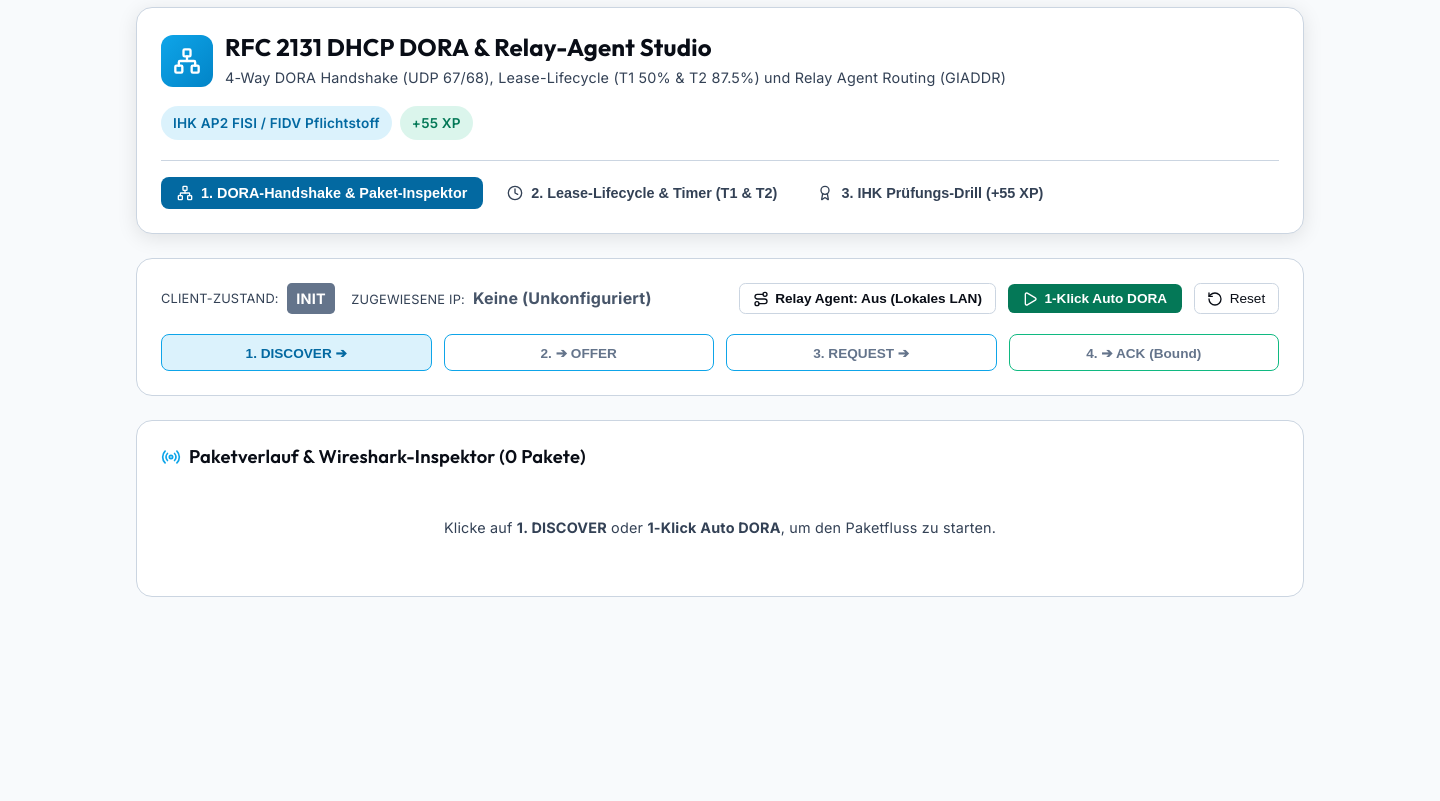
Test case: DhcpDoraLab: Lease-Lifecycle › durchläuft RENEWING und REBINDING und gibt die Adresse per Release frei
Click the button "1-Klick Auto DORA". click: (1095, 299)
box: [1008,284,1182,313]
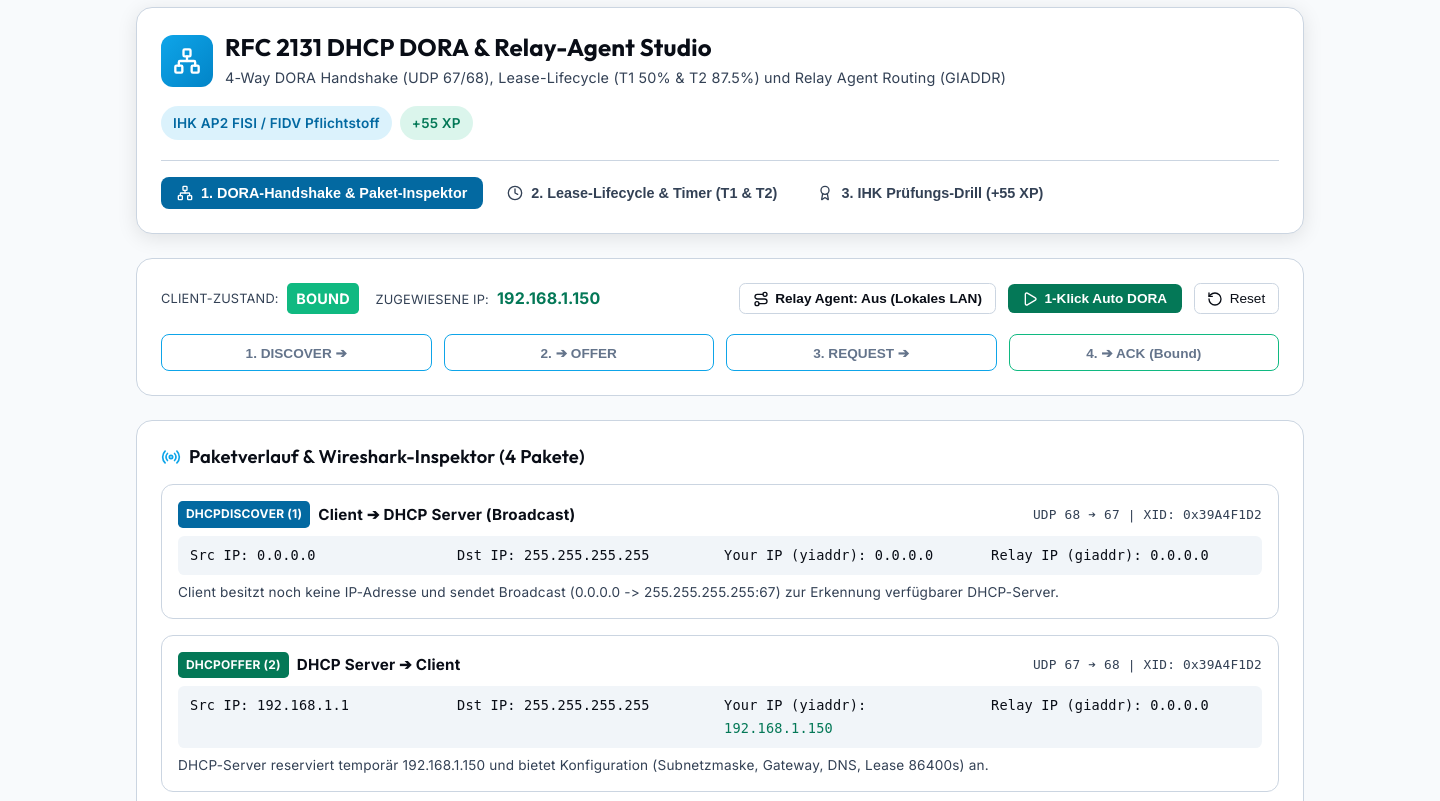
Click the button "2. Lease-Lifecycle & Timer (T1 & T2)". click: (642, 193)
box: [491,177,793,209]
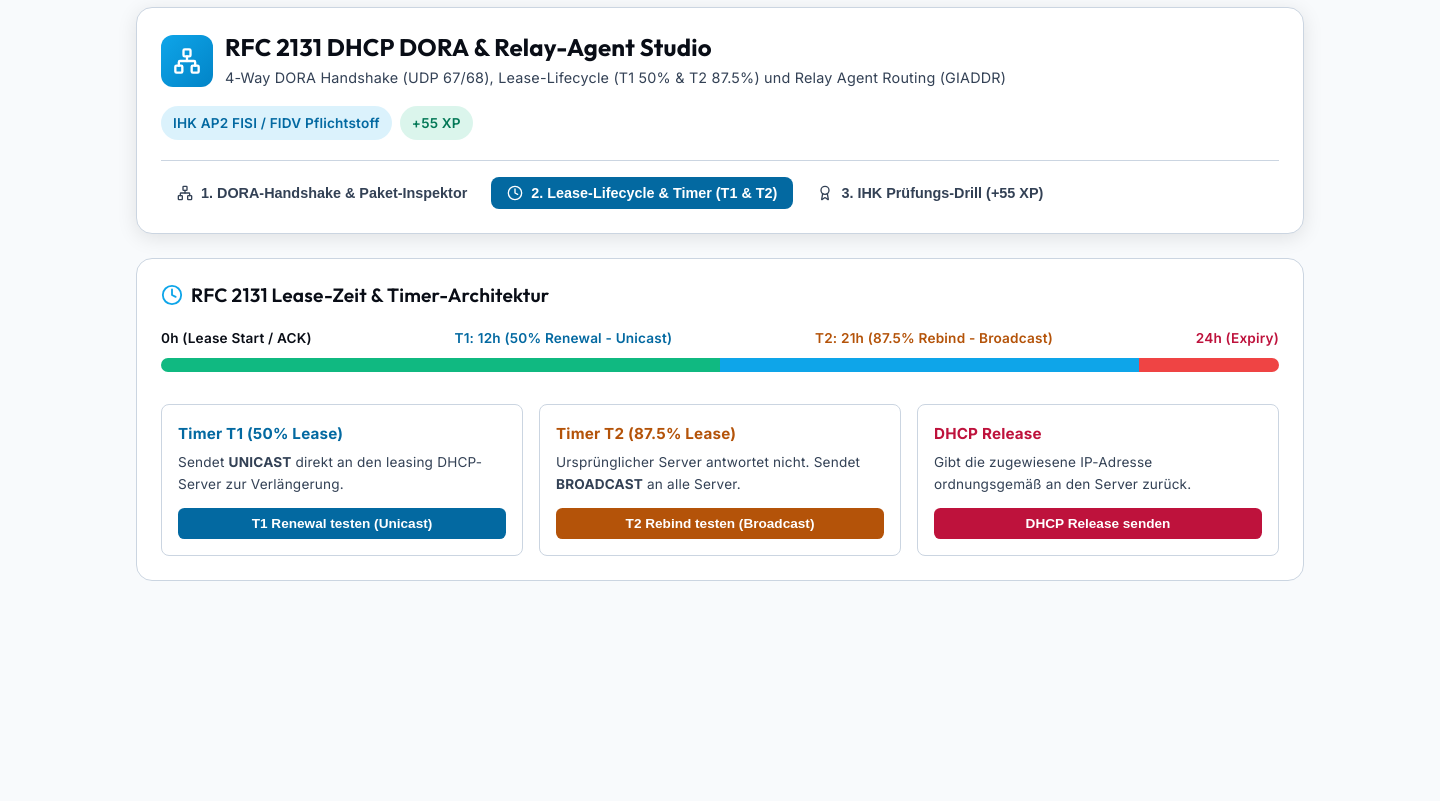
Click the button "T1 Renewal testen (Unicast)". click: (342, 524)
box: [178,508,506,539]
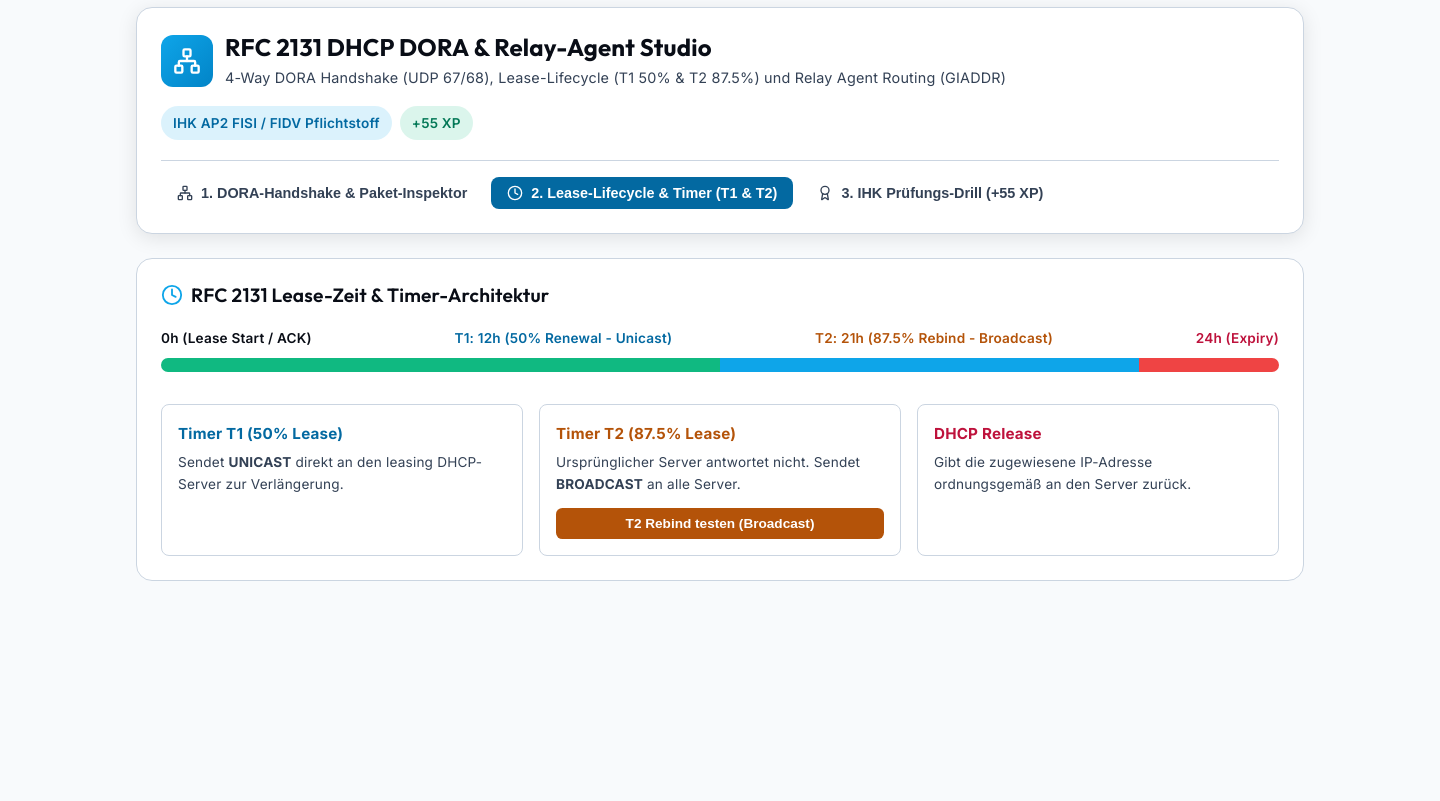
Click the button "T2 Rebind testen (Broadcast)". click: (720, 524)
box: [556,508,884,539]
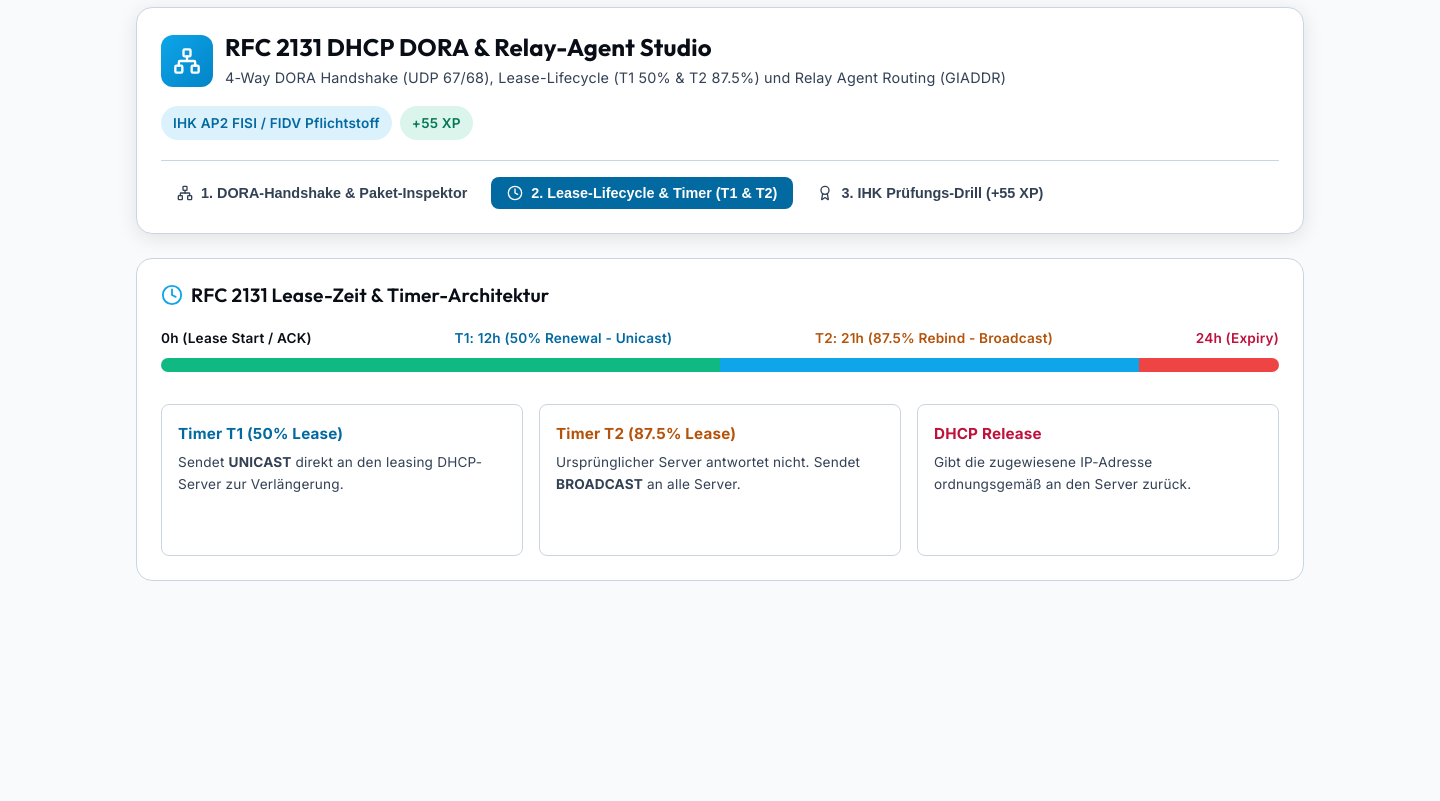
Click the button "1. DORA-Handshake & Paket-Inspektor". click: (322, 193)
box: [161,177,483,209]
(page scrolled)
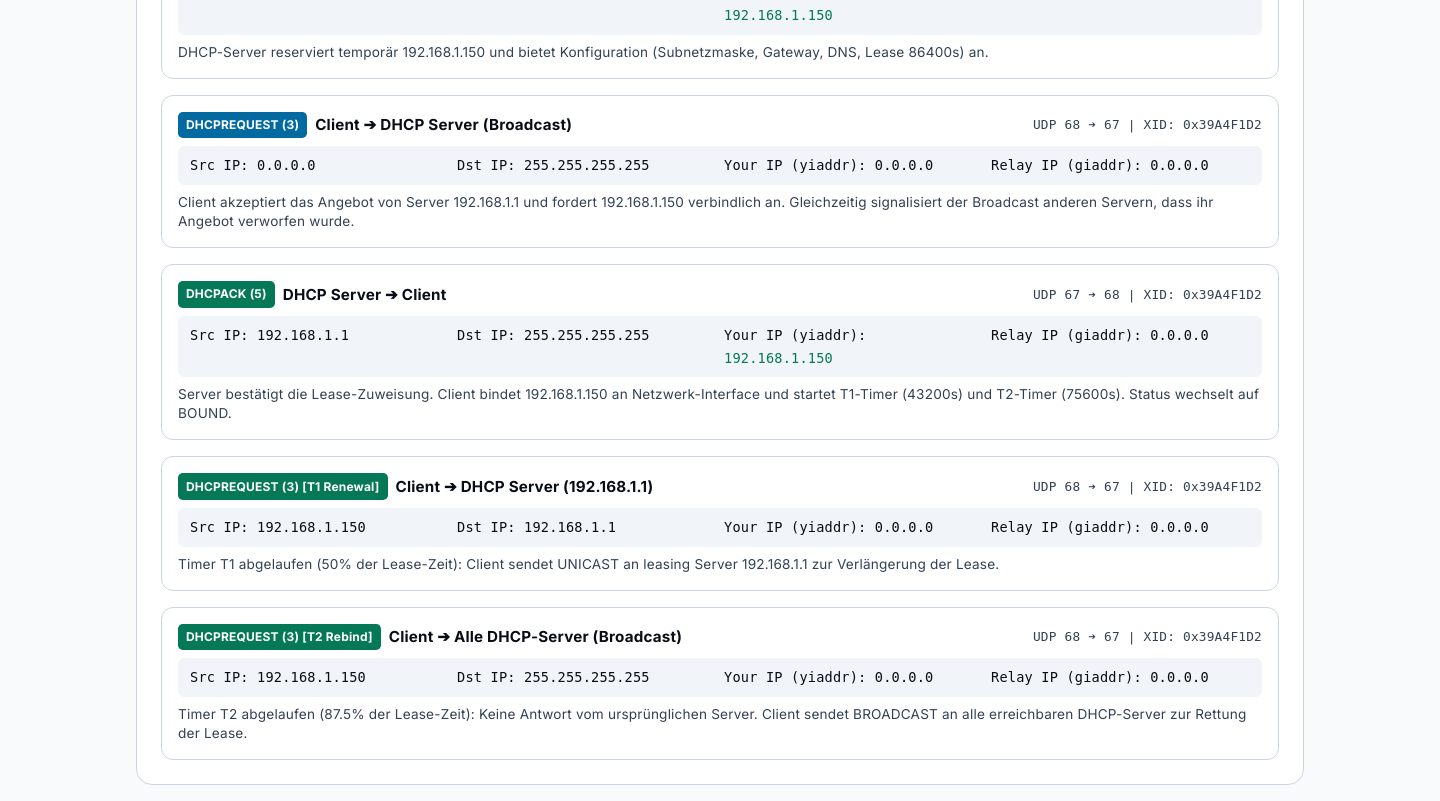
expect the text "DHCPREQUEST (3) [T1 Renewal]" is shown: met, box [178,474,388,500]
expect the text "DHCPREQUEST (3) [T2 Rebind]" is shown: met, box [178,624,381,650]
